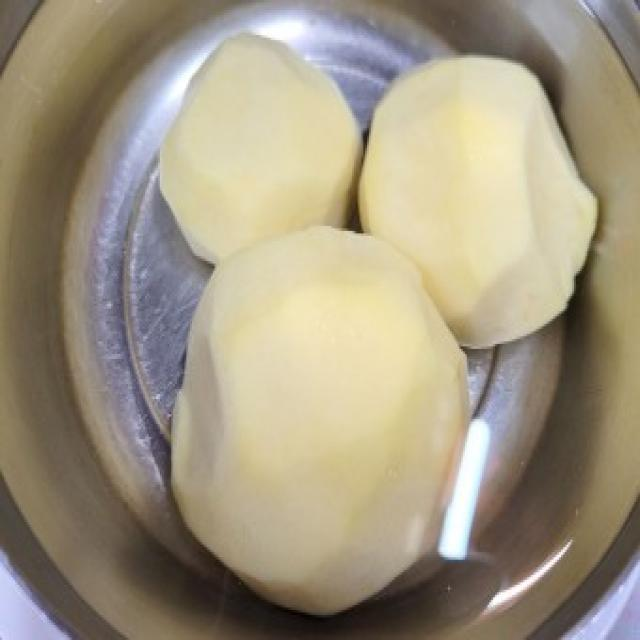potato: (170, 226, 464, 622), (356, 54, 598, 353), (154, 29, 362, 271)
